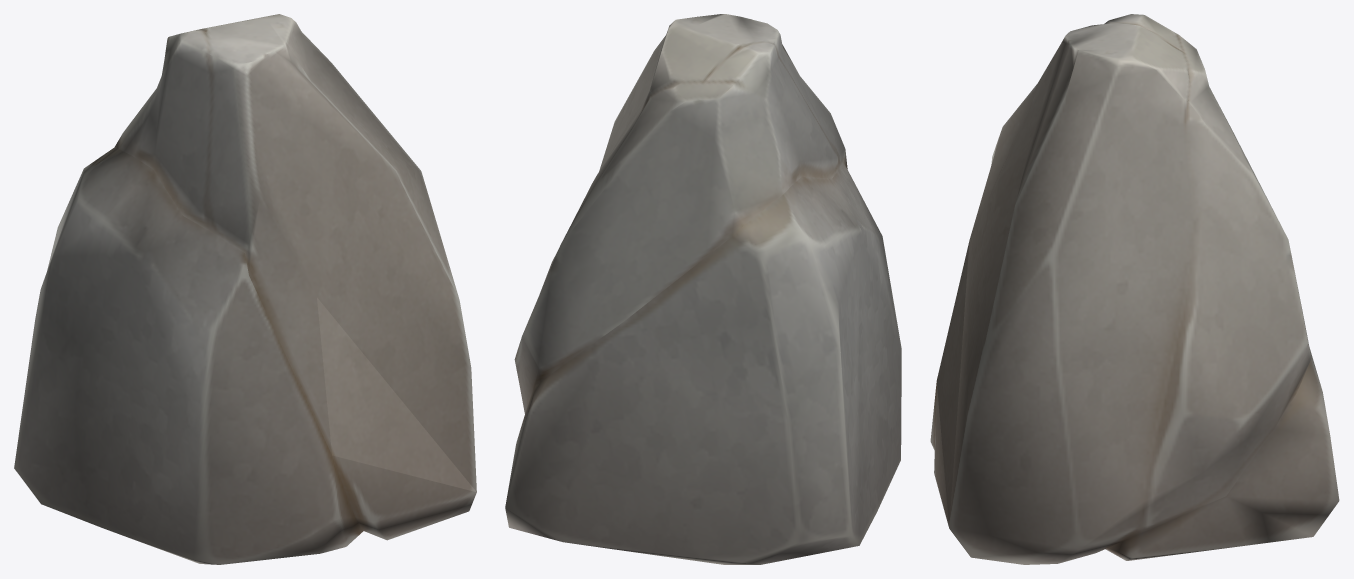
Rendered from sylized_03.obj.
The picture shows the model from 3 angles, left to right: view 1: azimuth 30°, elevation 25°; view 2: azimuth 150°, elevation 25°; view 3: azimuth 270°, elevation 25°; orthographic projection. The views are drawn at different scales.
Visible parts, largest first — view 1: SM_Rocks_05; view 2: SM_Rocks_05; view 3: SM_Rocks_05.
Boxes of the visible parts, box(x1,y1,x2,y2) form: SM_Rocks_05: box(14, 14, 476, 564); SM_Rocks_05: box(505, 14, 901, 564); SM_Rocks_05: box(930, 14, 1339, 564).
Bounding box in the file's own units: 90.2 × 110 × 90.4.
